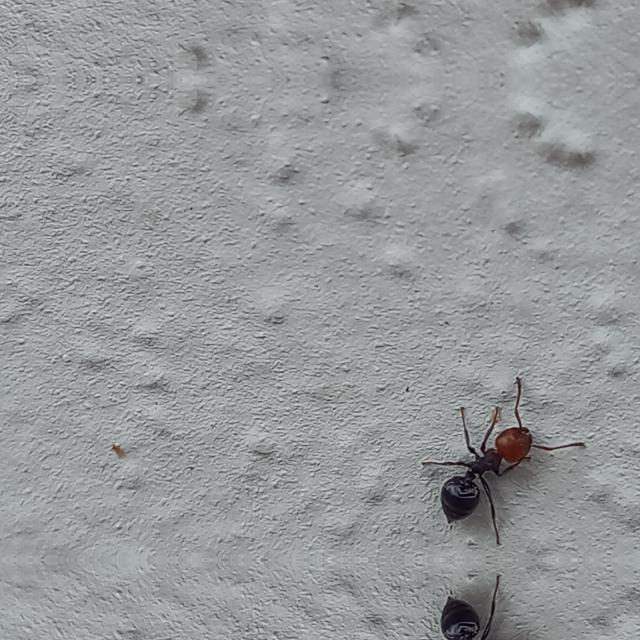Crematogaster: (412, 414, 578, 530), (412, 589, 578, 640)
